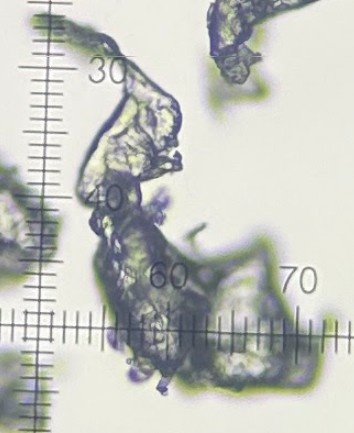microplastic: (28, 14, 334, 397), (202, 1, 321, 120), (1, 160, 63, 306), (1, 345, 51, 433)
